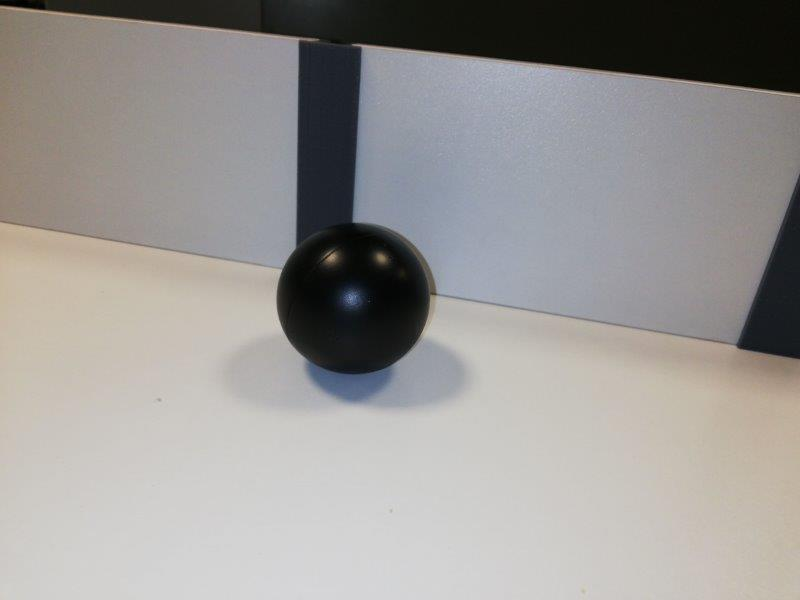nera: (275, 222, 431, 373)
